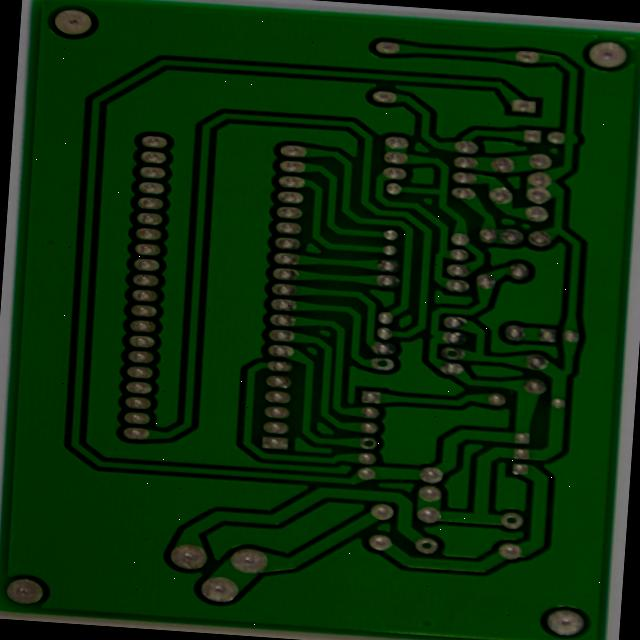missing_hole: (493, 507, 525, 529), (406, 532, 437, 553), (433, 339, 464, 359), (347, 430, 375, 450), (361, 351, 392, 369)
